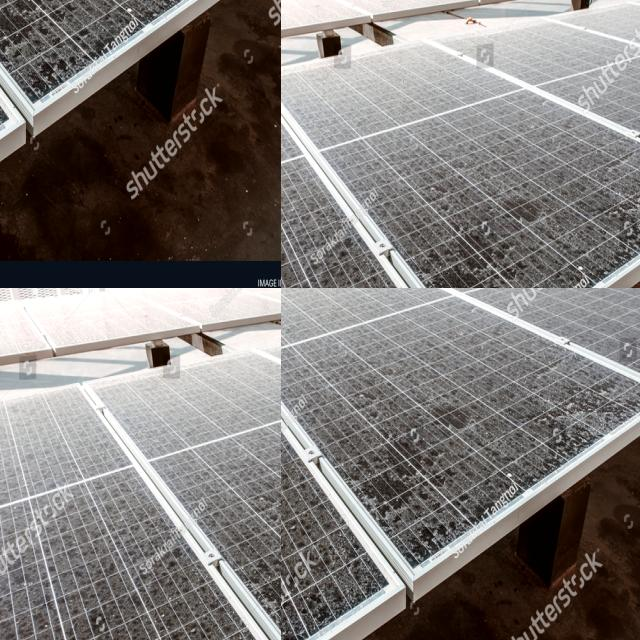crack: (52, 497, 281, 610), (85, 443, 264, 508), (0, 421, 138, 474), (222, 445, 281, 507), (215, 415, 281, 460), (114, 410, 230, 435)
dust: (10, 99, 281, 283), (475, 102, 640, 288), (281, 111, 448, 288), (281, 0, 459, 123), (0, 34, 151, 151), (82, 0, 281, 88), (506, 0, 640, 115), (417, 307, 504, 436), (126, 0, 281, 66), (281, 406, 324, 640), (388, 438, 497, 526), (312, 338, 399, 444), (0, 0, 87, 92), (281, 393, 313, 640), (516, 360, 582, 460), (527, 288, 640, 334), (281, 481, 315, 633), (281, 295, 318, 405), (281, 288, 362, 337), (281, 0, 640, 11), (281, 0, 312, 123), (0, 0, 119, 31), (426, 288, 526, 324), (578, 288, 640, 312)
